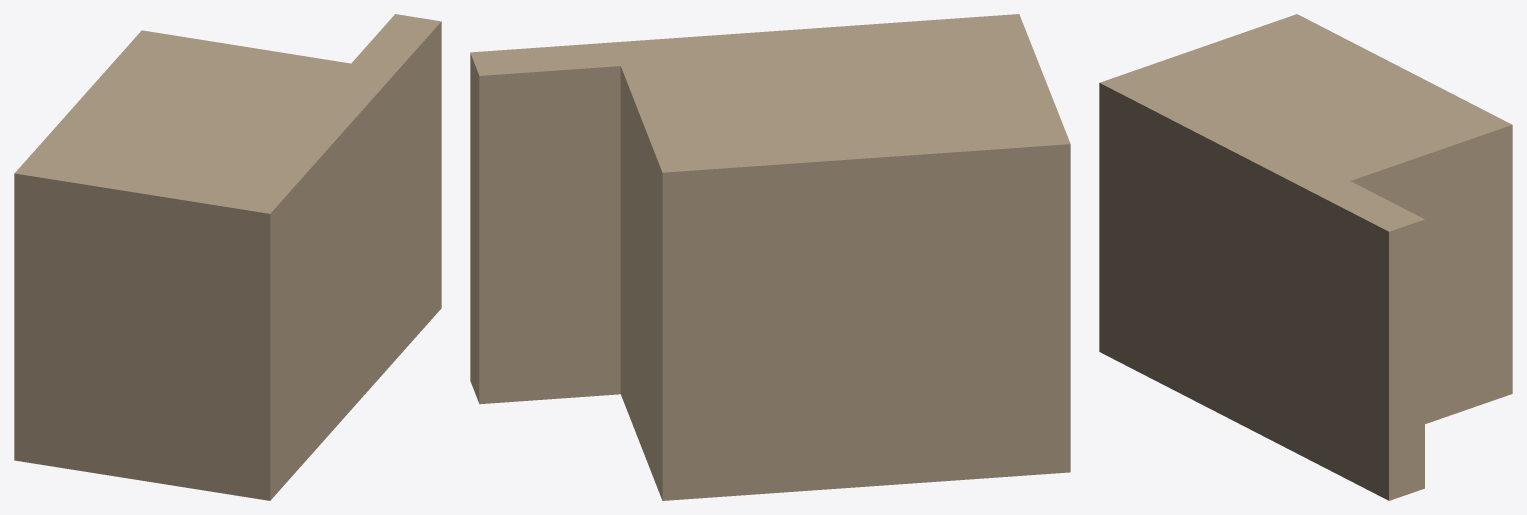
File: bld_101979712.dae
3 views of the same model, side by side, from view 1: azimuth 30°, elevation 25°; view 2: azimuth 150°, elevation 25°; view 3: azimuth 270°, elevation 25° (orthographic). The views are drawn at different scales.
Visible parts, largest first — view 1: bld_101979712; view 2: bld_101979712; view 3: bld_101979712.
Boxes of the visible parts, x1=… form: bld_101979712: x1=14, y1=14, x2=441, y2=500; bld_101979712: x1=470, y1=14, x2=1070, y2=500; bld_101979712: x1=1099, y1=14, x2=1512, y2=500.
Bounding box in the file's own units: 13.88 × 11.12 × 8.
